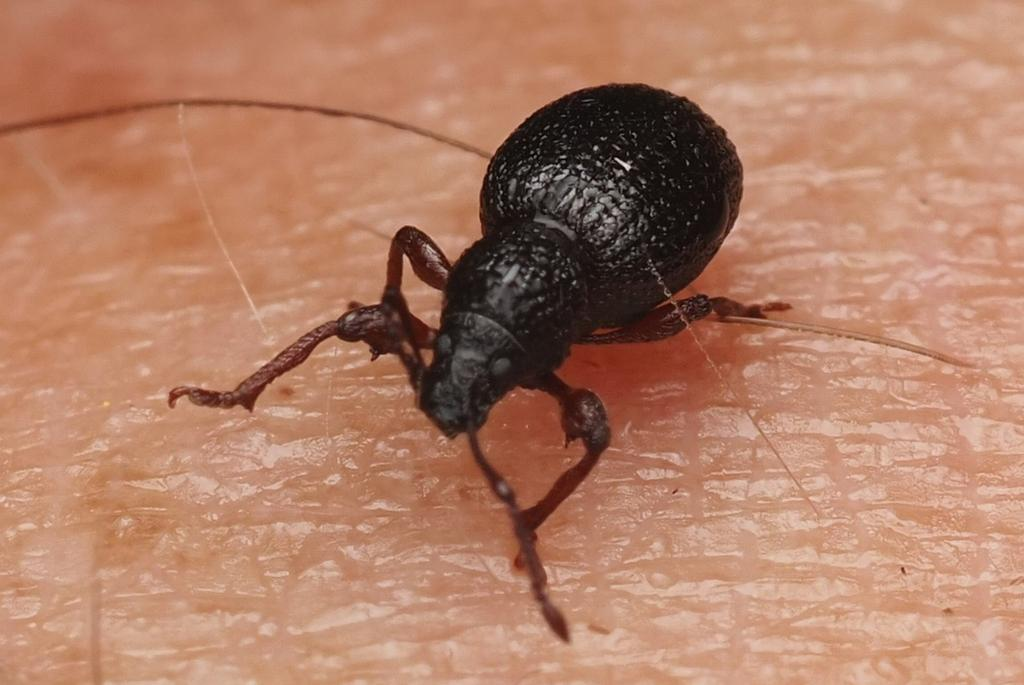weevils: (65, 0, 904, 685)
